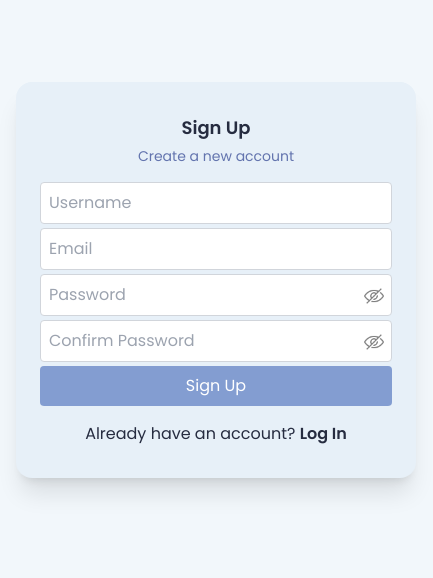
SignUp Page › displays error message on failed registration
The image size is (433, 578).
Type "testuser" into the field with placeholder "Username".
click(216, 203); type("testuser")  # box [40,182,392,224]
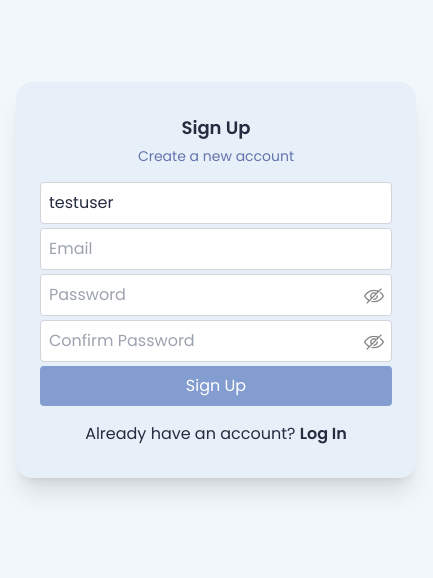
Type "test@example.com" into the field with placeholder "Email".
click(216, 249); type("test@example.com")  # box [40,228,392,270]
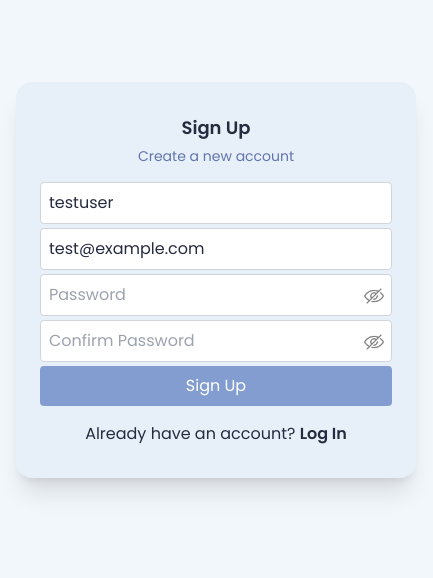
Type "password123" into the password field with placeholder "Password".
click(216, 295); type("password123")  # box [40,274,392,316]
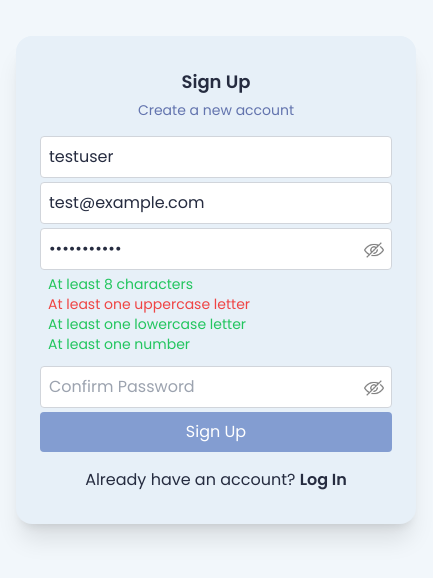
Type "password123" into the password field with placeholder "Confirm Password".
click(216, 387); type("password123")  # box [40,366,392,408]
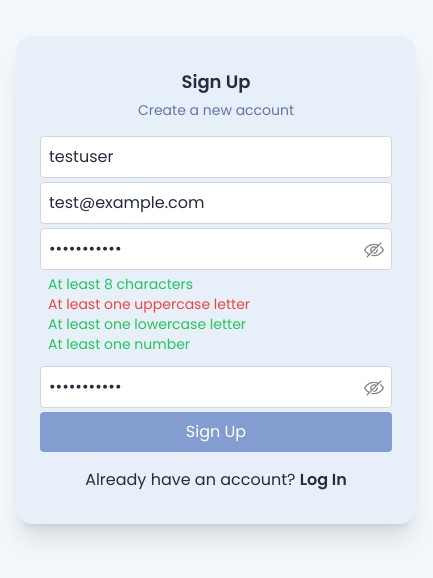
Click the button "Sign Up".
click(216, 432)  # box [40,412,392,452]
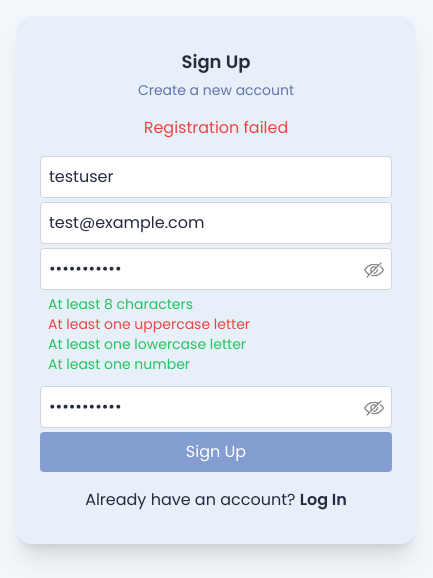
Check: the text "Registration failed" is shown, box [144,116,288,139]
